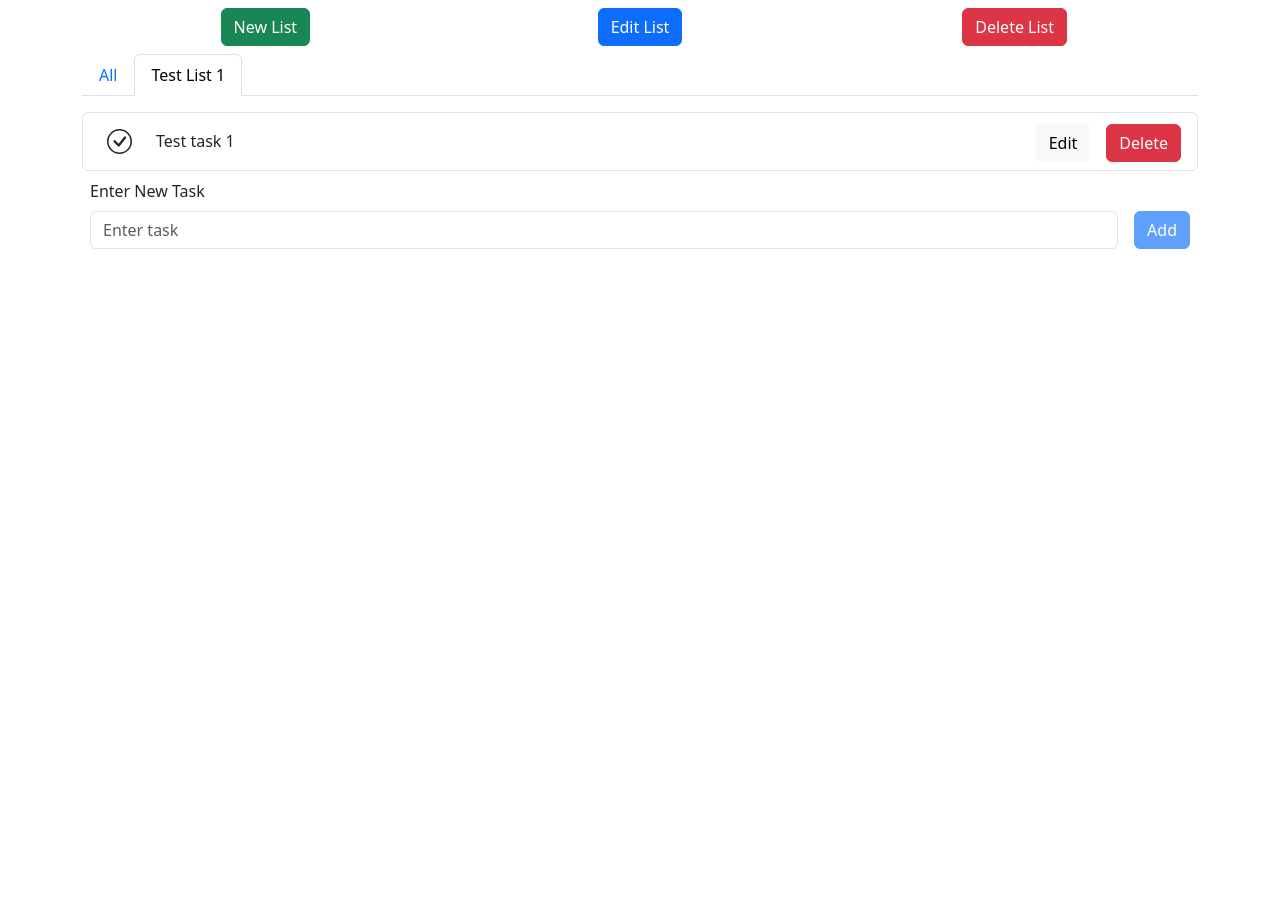
Test: adds list
The width and height of the screenshot is (1280, 900).
Click the button "New List" at x=265, y=27, box [220, 8, 310, 46]
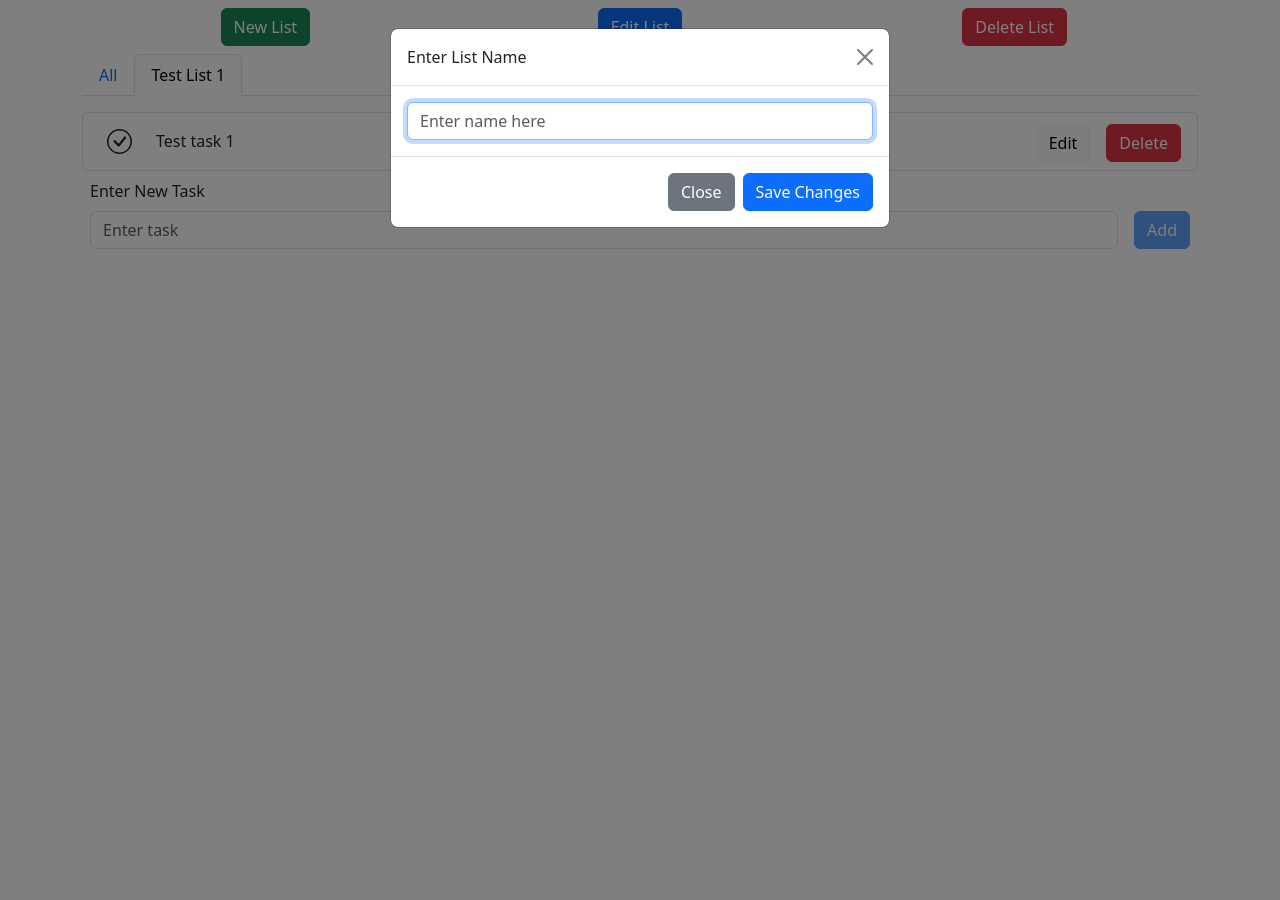
Type "Test List 2" into the field with placeholder "Enter name here" at x=640, y=121, box [407, 102, 873, 140]
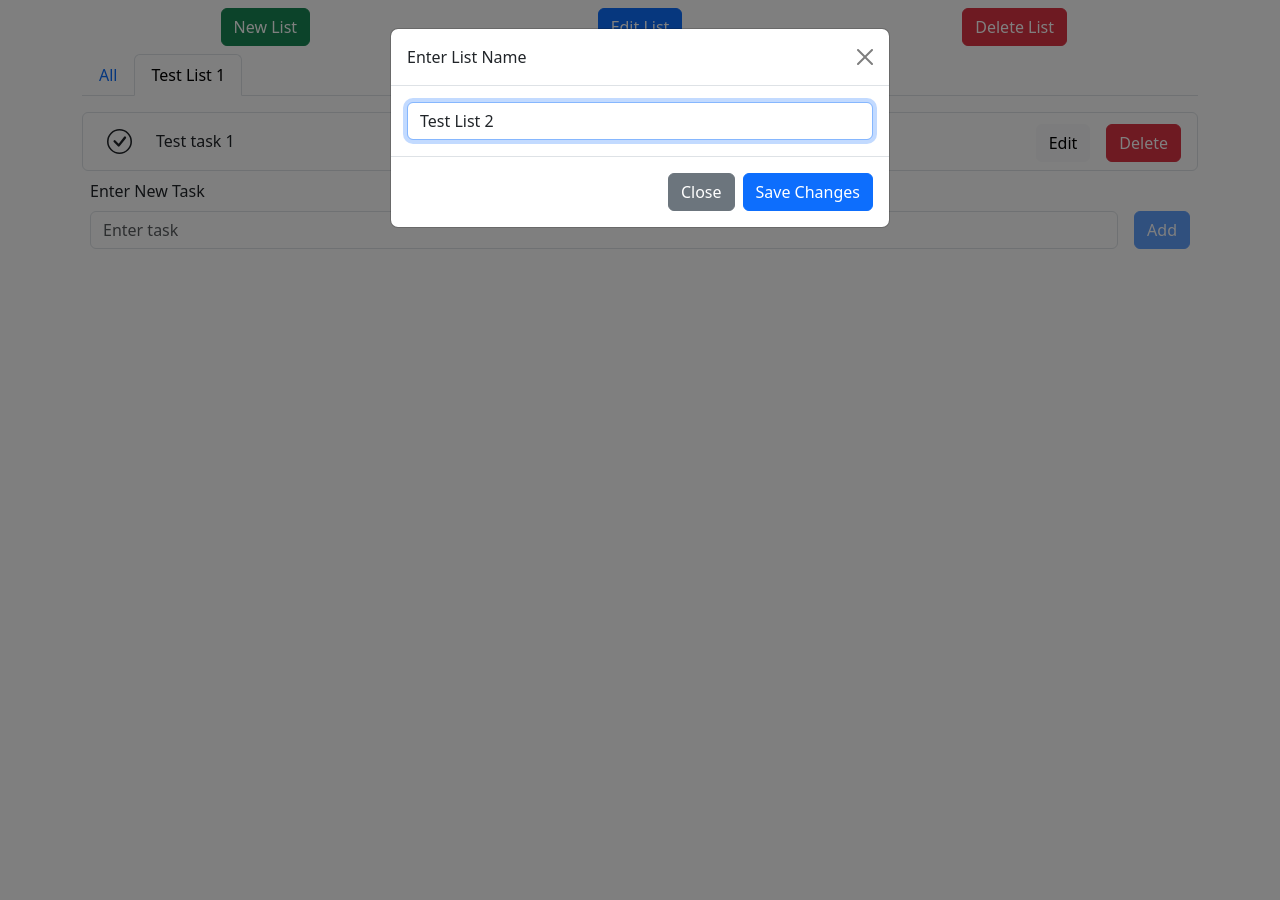
Click the button "Save Changes" at x=808, y=192, box [742, 173, 873, 211]
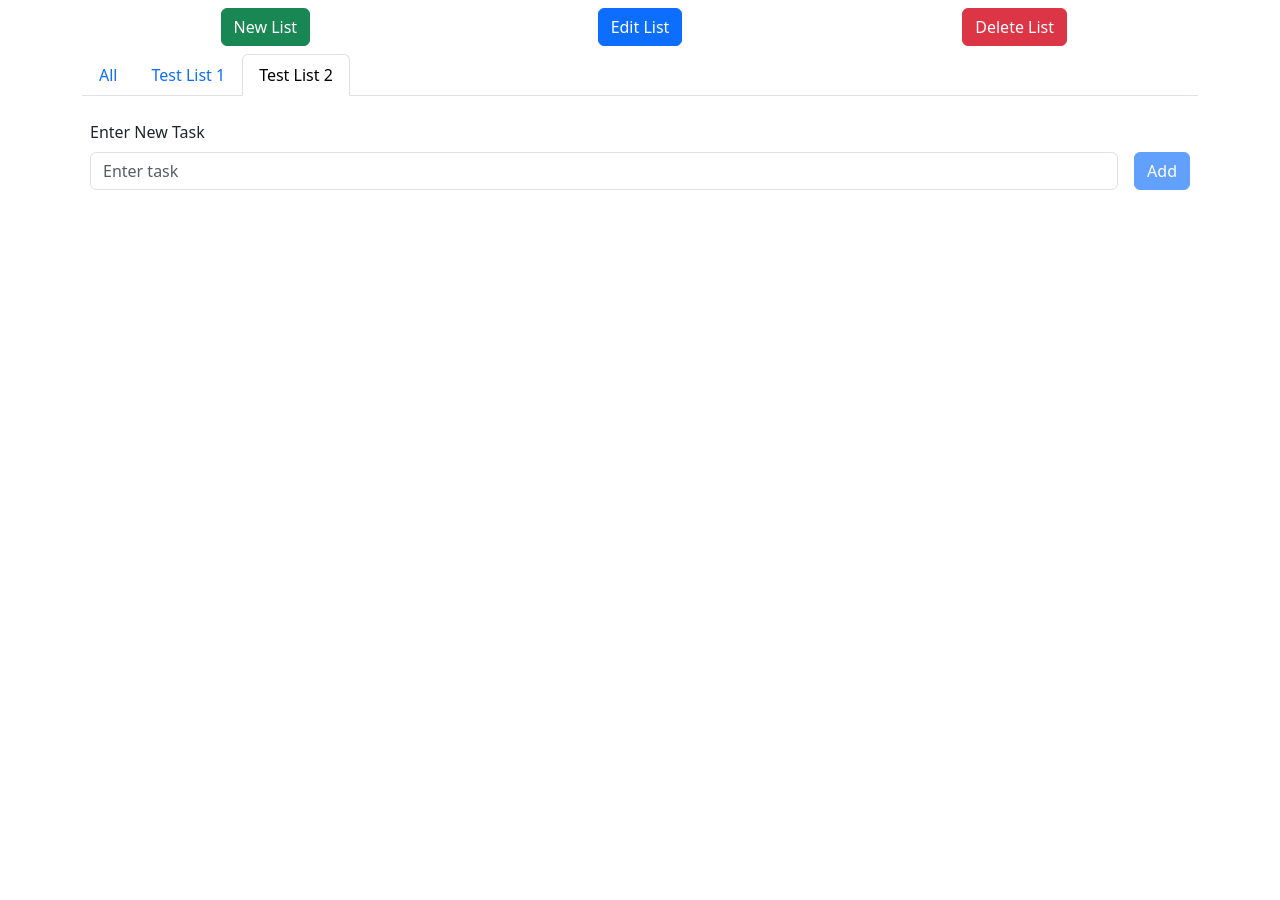
Now the tab "Test List 2" is shown, box [242, 54, 350, 96]
